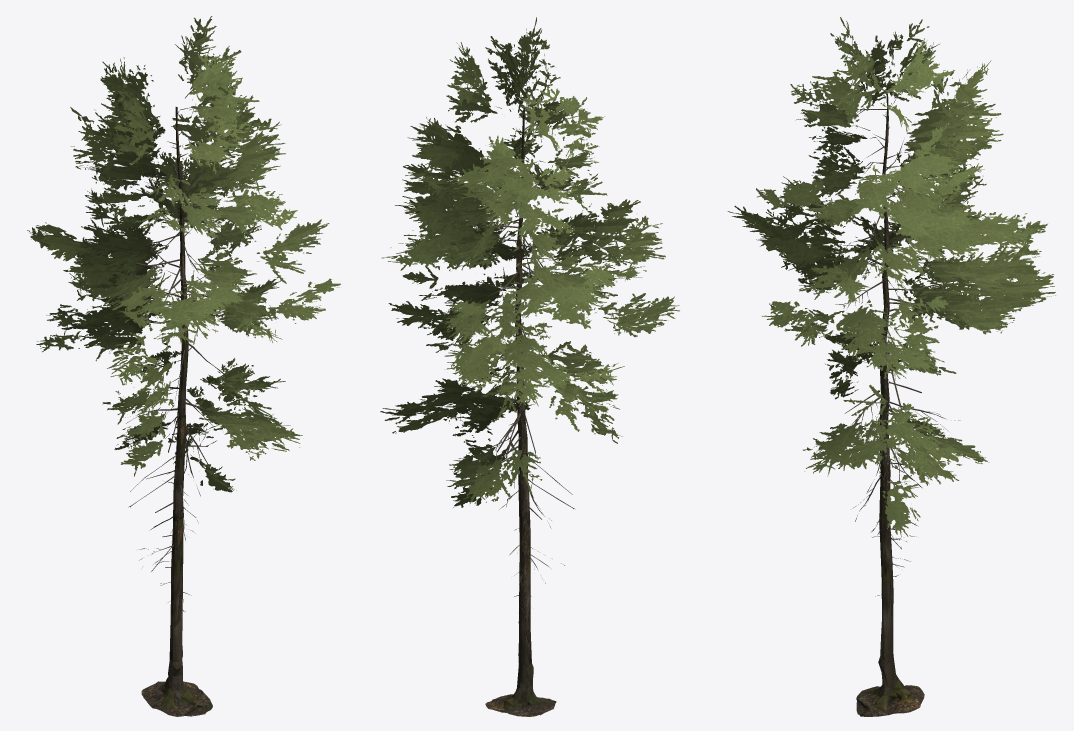
Rendered from fir_b_lod0.glb.
The picture shows the model from 3 angles, left to right: view 1: azimuth 30°, elevation 25°; view 2: azimuth 150°, elevation 25°; view 3: azimuth 270°, elevation 25°; orthographic projection. The views are drawn at different scales.
Visible parts, largest first — view 1: fir_b_lod0_needles, fir_b_lod0_trunk_fir_tree_01_trunk_b, fir_b_lod0_branches_fir_tree_01_bark, fir_b_lod0_branches_fir_tree_01_dead_branches; view 2: fir_b_lod0_needles, fir_b_lod0_trunk_fir_tree_01_trunk_b, fir_b_lod0_branches_fir_tree_01_bark, fir_b_lod0_branches_fir_tree_01_dead_branches; view 3: fir_b_lod0_needles, fir_b_lod0_trunk_fir_tree_01_trunk_b, fir_b_lod0_branches_fir_tree_01_bark, fir_b_lod0_branches_fir_tree_01_dead_branches.
Boxes of the visible parts, left/top/right/bottom form: fir_b_lod0_needles: left=27, top=16, right=340, bottom=492; fir_b_lod0_trunk_fir_tree_01_trunk_b: left=141, top=107, right=212, bottom=716; fir_b_lod0_branches_fir_tree_01_bark: left=114, top=88, right=245, bottom=470; fir_b_lod0_branches_fir_tree_01_dead_branches: left=122, top=385, right=216, bottom=611; fir_b_lod0_needles: left=380, top=17, right=679, bottom=507; fir_b_lod0_trunk_fir_tree_01_trunk_b: left=485, top=109, right=556, bottom=716; fir_b_lod0_branches_fir_tree_01_bark: left=457, top=80, right=575, bottom=464; fir_b_lod0_branches_fir_tree_01_dead_branches: left=449, top=398, right=575, bottom=596; fir_b_lod0_needles: left=727, top=17, right=1055, bottom=537; fir_b_lod0_trunk_fir_tree_01_trunk_b: left=856, top=87, right=924, bottom=716; fir_b_lod0_branches_fir_tree_01_bark: left=812, top=73, right=965, bottom=479; fir_b_lod0_branches_fir_tree_01_dead_branches: left=845, top=381, right=960, bottom=610.
Size of the model in its own units: 5.87 by 14.1 by 6.26.
Materials: 3 (3 with a texture image).
